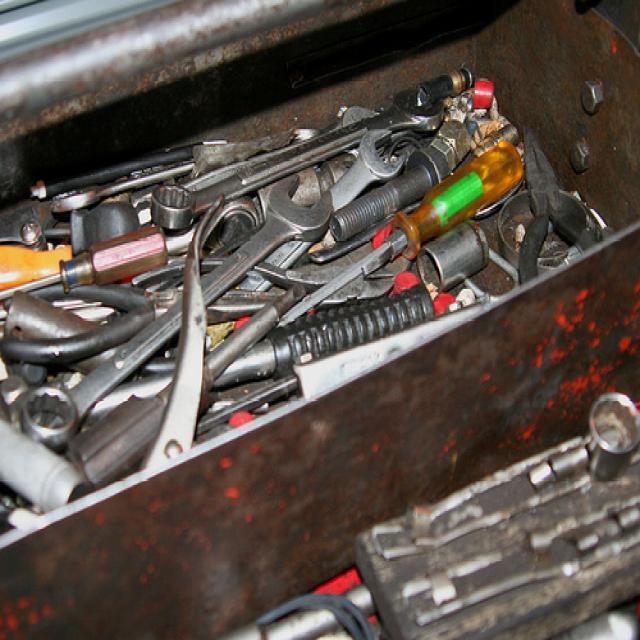Pliers: (509, 132, 602, 295)
Screwdriver: (261, 131, 529, 352)
Wrench: (36, 159, 329, 442), (187, 125, 406, 345)
